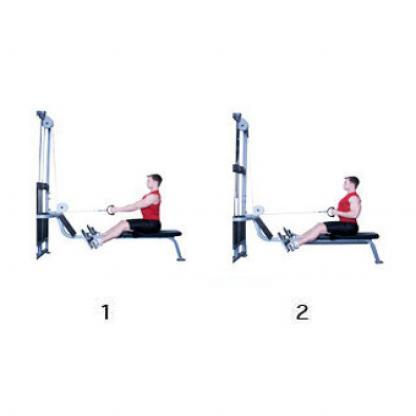Seated Cable Rows: (1, 80, 198, 336)
